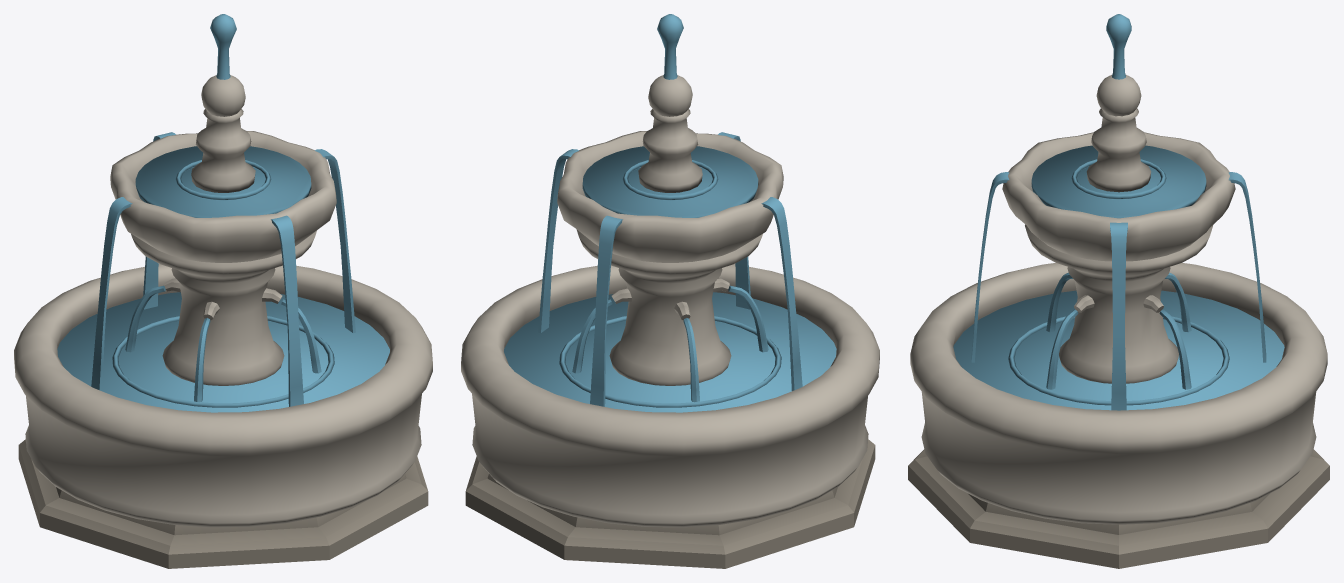
File: fountain.glb
The picture shows the model from 3 angles, left to right: view 1: azimuth 30°, elevation 25°; view 2: azimuth 150°, elevation 25°; view 3: azimuth 270°, elevation 25°; orthographic projection.
Parts seen in each view (by area): view 1: fountain, ripples, jet; view 2: fountain, ripples, jet; view 3: fountain, ripples, jet.
Boxes of the visible parts, x1,y1,x2,y2 form: fountain: (14, 75, 432, 568); ripples: (112, 160, 334, 407); jet: (210, 14, 236, 79); fountain: (461, 75, 879, 568); ripples: (559, 160, 781, 407); jet: (657, 14, 683, 79); fountain: (908, 75, 1329, 568); ripples: (1008, 159, 1229, 405); jet: (1106, 14, 1131, 79).
Size of the model in its own units: 0.94 by 1.14 by 0.94.
